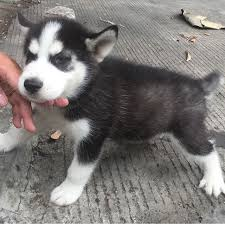Siberian Husky: (8, 6, 225, 209)
